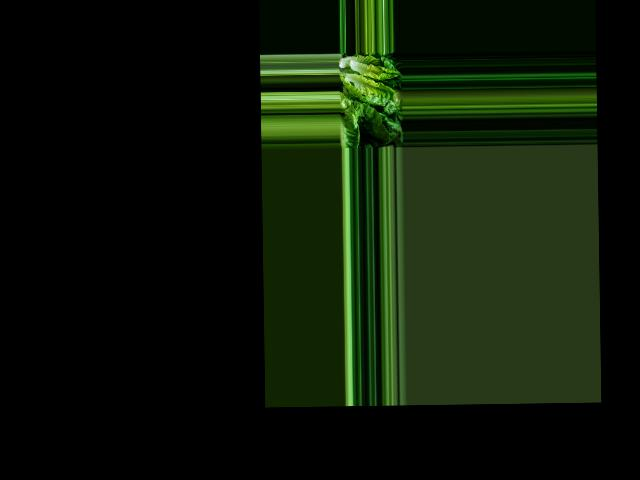lettuce: (338, 54, 398, 116)
